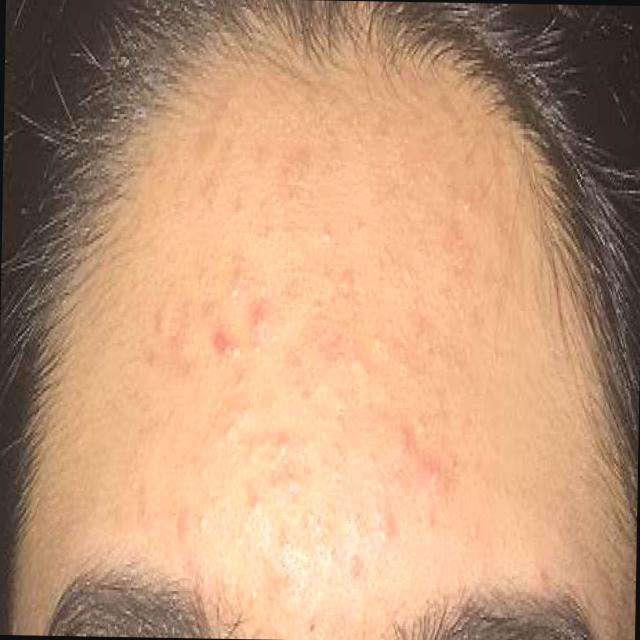fungal: (138, 152, 466, 600)
